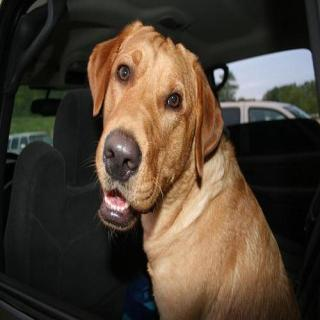dog: (82, 22, 226, 234)
nose: (98, 130, 148, 182)
